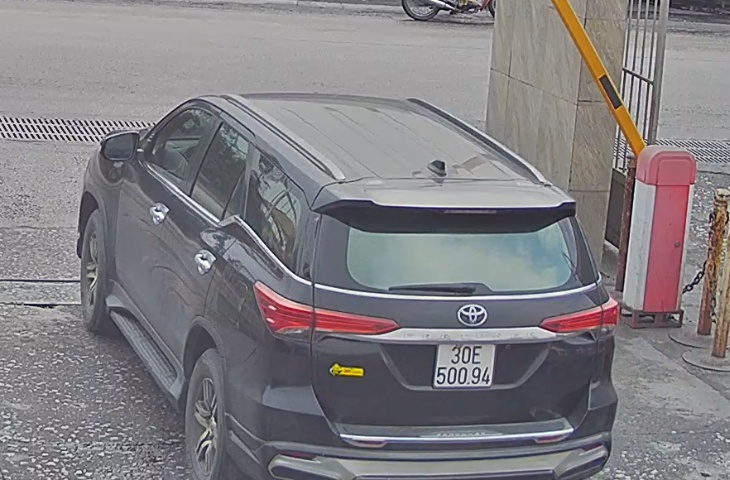vehicle plate: (427, 337, 498, 393)
